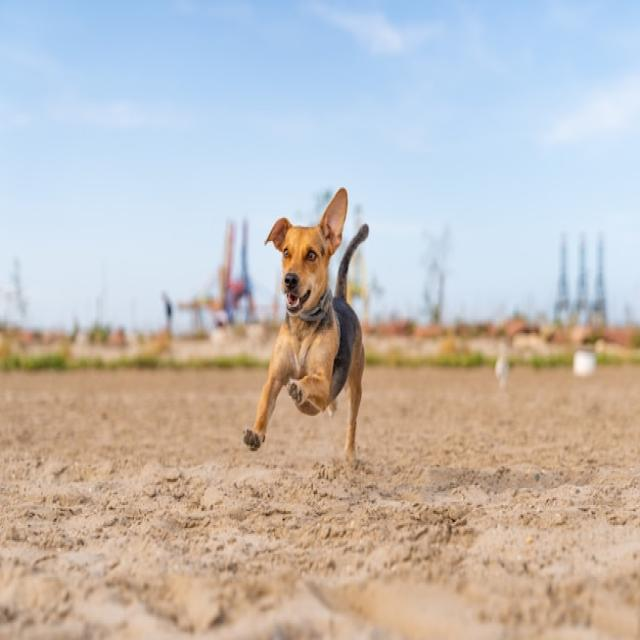Dog: (243, 186, 369, 453)
